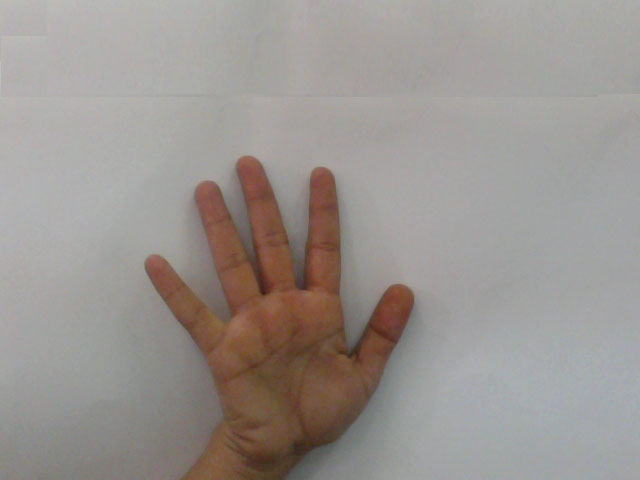hand: (137, 142, 431, 453)
